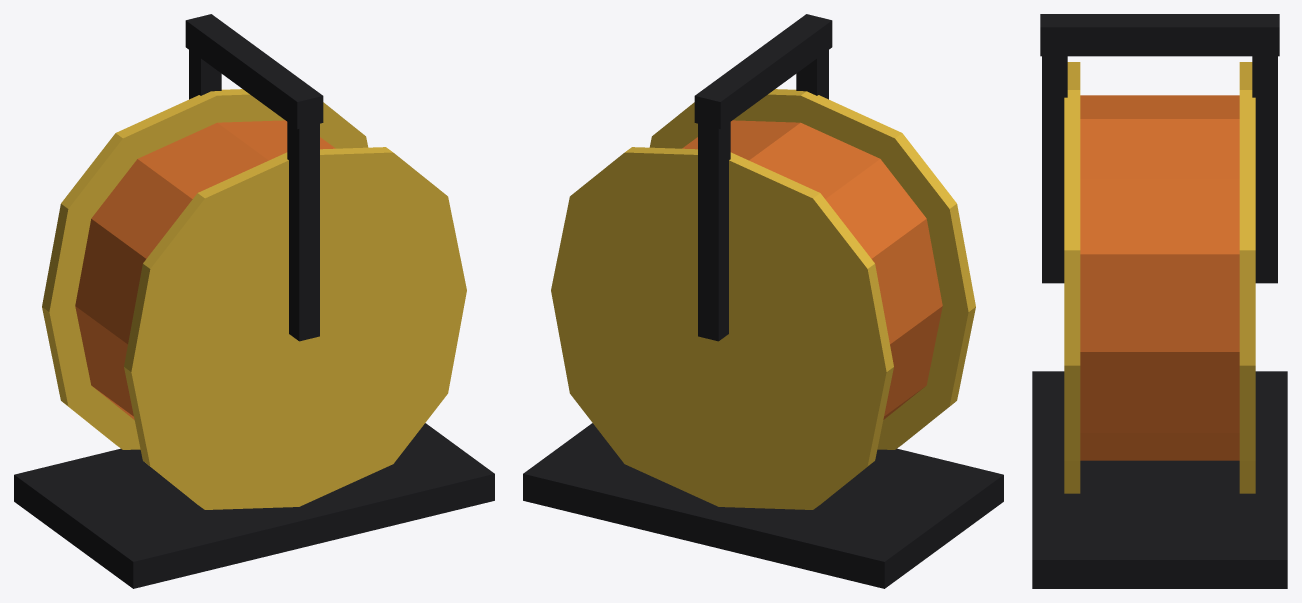
File: GT_CordReel_01.glb
3 views of the same model, side by side, from view 1: azimuth 30°, elevation 25°; view 2: azimuth 150°, elevation 25°; view 3: azimuth 270°, elevation 25° (orthographic). The views are drawn at different scales.
Visible parts, largest first — view 1: GT_CordReel_01; view 2: GT_CordReel_01; view 3: GT_CordReel_01.
Part boxes in pixels (<box>): GT_CordReel_01: <box>14,14,494,588</box>; GT_CordReel_01: <box>523,14,1003,588</box>; GT_CordReel_01: <box>1032,14,1287,588</box>.
Bounding box in the file's own units: 0.28 × 0.328 × 0.16.
Materials: 1 (1 with a texture image).
